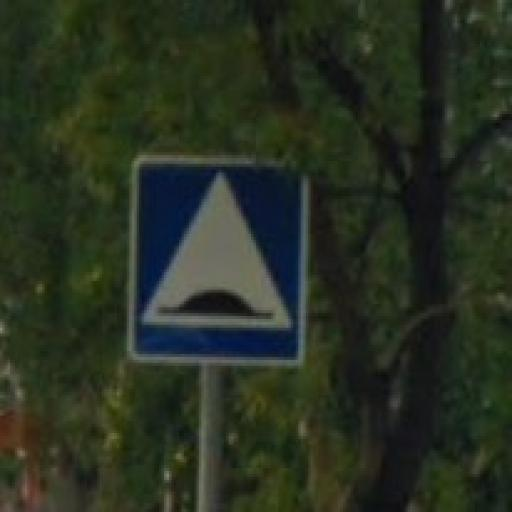traffic_sign: (125, 156, 309, 370)
